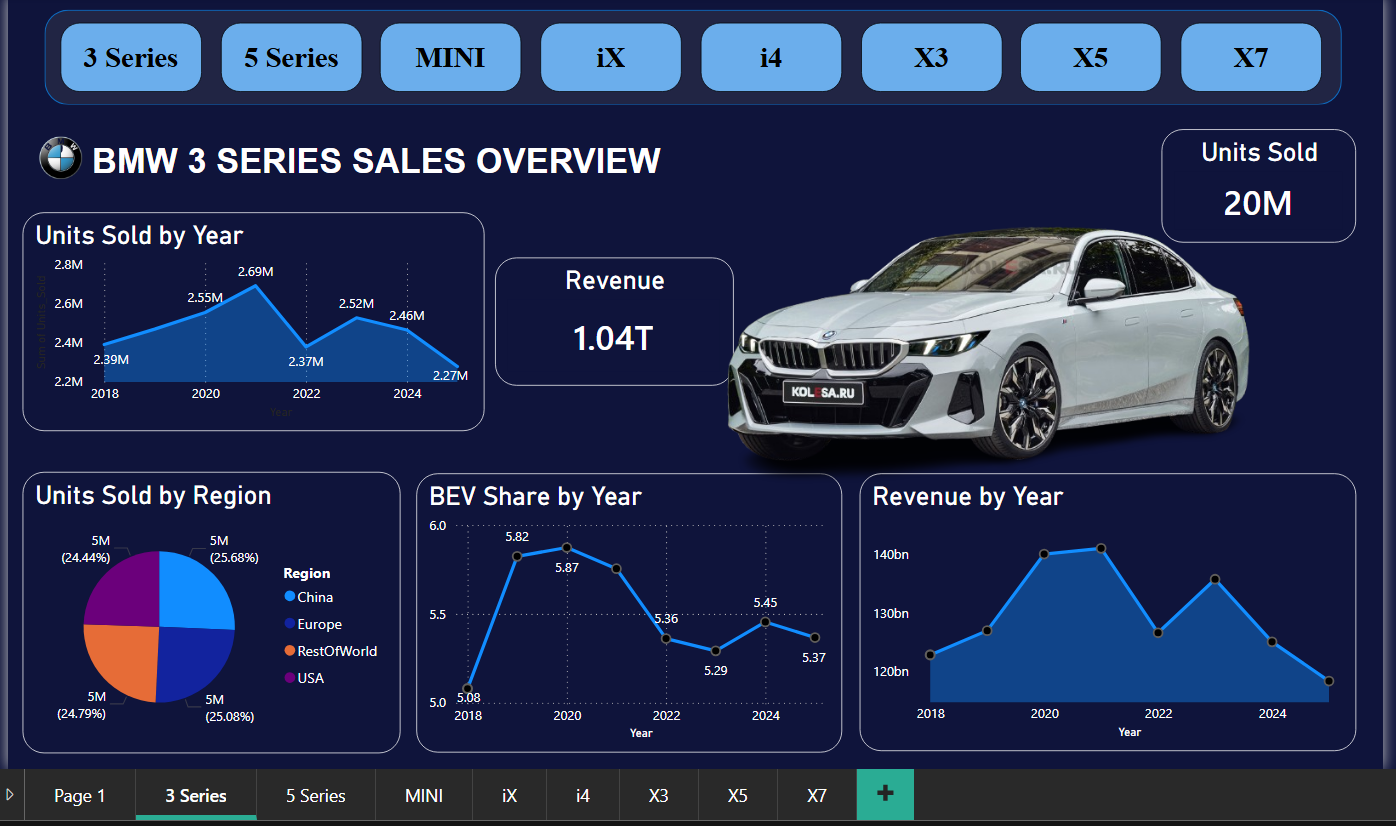

This screenshot's page, from the dashboard's own definition file:
{"tool":"powerbi","page":{"name":"3 Series","canvas":[1280,720],"ordinal":1},"visuals":[{"type":"shape","box":[33.7,13.8,1207.6,88.8],"z":0},{"type":"actionButton","box":[49,26,131.6,64.3],"z":1000},{"type":"actionButton","box":[197.9,26,131.6,64.3],"z":2000},{"type":"actionButton","box":[346.7,26,131.6,64.3],"z":3000},{"type":"actionButton","box":[495.6,26,131.6,64.3],"z":4000},{"type":"actionButton","box":[644.5,26,131.6,64.3],"z":5000},{"type":"actionButton","box":[793.4,26,131.6,64.3],"z":6000},{"type":"actionButton","box":[942.3,26,131.6,64.3],"z":7000},{"type":"actionButton","box":[1091.2,26,131.6,64.3],"z":8000},{"type":"textbox","box":[73.9,131.9,553.6,52.2],"z":9000},{"type":"lineChart","title":"Units Sold by Year","fields":{"Y":["Sum(Sheet1.Units_Sold)"],"Category":["Sheet1.Year"]},"box":[13.8,202,430.1,203.6],"z":10000},{"type":"cardVisual","title":"Revenue","fields":{"Data":["Sum(Sheet1.Revenue)"]},"box":[453,244.9,221.9,119.4],"z":11000},{"type":"pieChart","title":"Units Sold by Region","fields":{"Category":["Sheet1.Region"],"Y":["Sum(Sheet1.Units_Sold)"]},"box":[13.8,443.8,352,261.7],"z":12000},{"type":"lineChart","title":"BEV Share by Year","fields":{"Y":["Avg(Sheet1.BEV_Share_%)"],"Category":["Sheet1.Year"]},"box":[379.6,445.4,396.4,260.2],"z":13000},{"type":"cardVisual","title":"Units Sold","fields":{"Data":["Sum(Sheet1.Units_Sold)"]},"box":[1073.9,124.6,181.2,105.8],"z":14000},{"type":"image","box":[578.5,183.7,671.9,296.9],"z":15000},{"type":"areaChart","title":"Revenue by Year","fields":{"Category":["Sheet1.Year"],"Y":["Sum(Sheet1.Revenue)"]},"box":[792.8,445.4,462.2,258.7],"z":16000},{"type":"image","box":[24.5,131.6,49,39.8],"z":17000}]}

Visuals, with their boxes on the page's 1280x720 design canvas (x1, y1, x2, y2). These are canvas units, not pixel positions in the 1396x826 screenshot, which may show the page scaled, cropped or inside an application window:
shape: (x1=34, y1=14, x2=1241, y2=103)
actionButton: (x1=49, y1=26, x2=181, y2=90)
actionButton: (x1=198, y1=26, x2=330, y2=90)
actionButton: (x1=347, y1=26, x2=478, y2=90)
actionButton: (x1=496, y1=26, x2=627, y2=90)
actionButton: (x1=644, y1=26, x2=776, y2=90)
actionButton: (x1=793, y1=26, x2=925, y2=90)
actionButton: (x1=942, y1=26, x2=1074, y2=90)
actionButton: (x1=1091, y1=26, x2=1223, y2=90)
textbox: (x1=74, y1=132, x2=628, y2=184)
"Units Sold by Year" lineChart: (x1=14, y1=202, x2=444, y2=406)
"Revenue" cardVisual: (x1=453, y1=245, x2=675, y2=364)
"Units Sold by Region" pieChart: (x1=14, y1=444, x2=366, y2=706)
"BEV Share by Year" lineChart: (x1=380, y1=445, x2=776, y2=706)
"Units Sold" cardVisual: (x1=1074, y1=125, x2=1255, y2=230)
image: (x1=578, y1=184, x2=1250, y2=481)
"Revenue by Year" areaChart: (x1=793, y1=445, x2=1255, y2=704)
image: (x1=24, y1=132, x2=74, y2=171)
